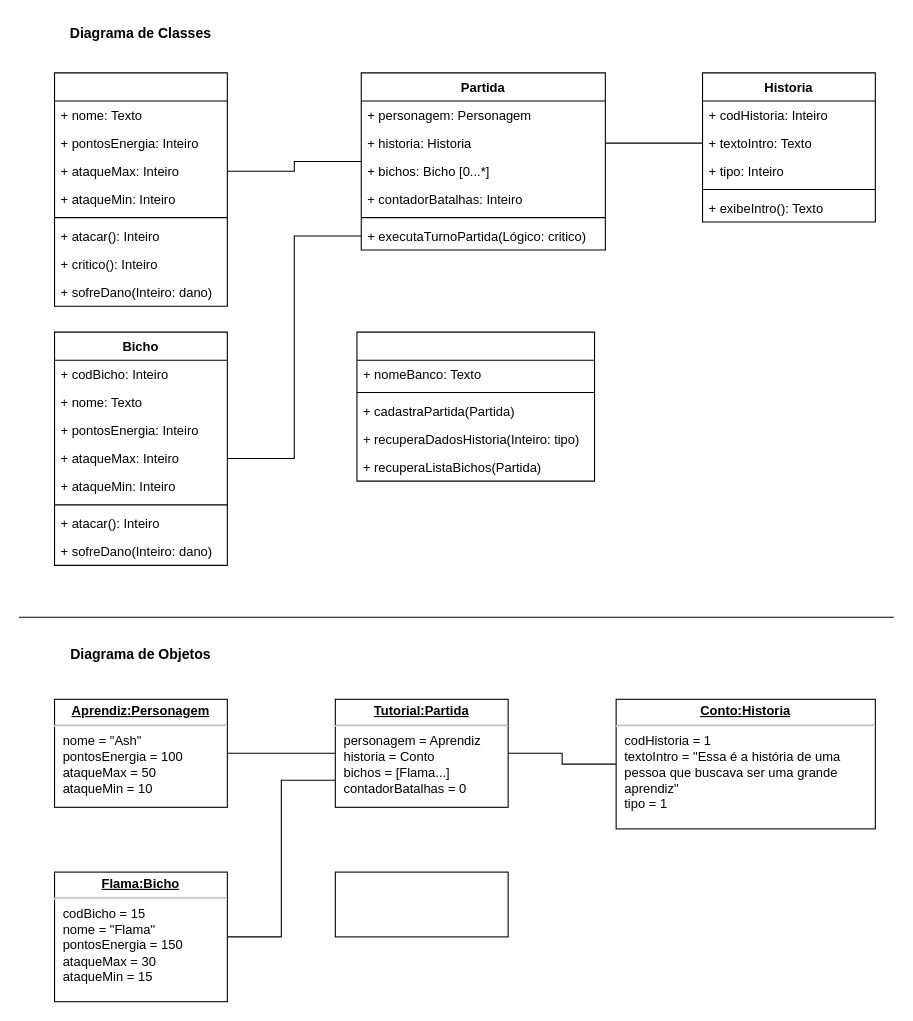
The diagram is 913 pixels wide and 1021 high, and some of its shapes have lost their labels. The box of each missing label's shape, as (x1, y1, x2, y2) in pixels:
BDBicho:UtilizaBanco nomeBanco = "BichoBD": (334, 871, 508, 937)
Personagem: (53, 72, 227, 306)
UtilizaBanco: (356, 331, 595, 481)
